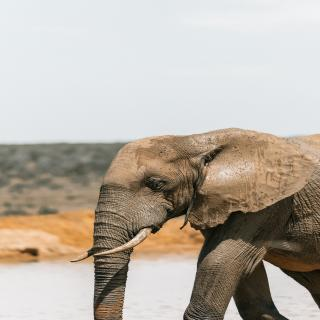Elephant: (75, 125, 320, 319)
